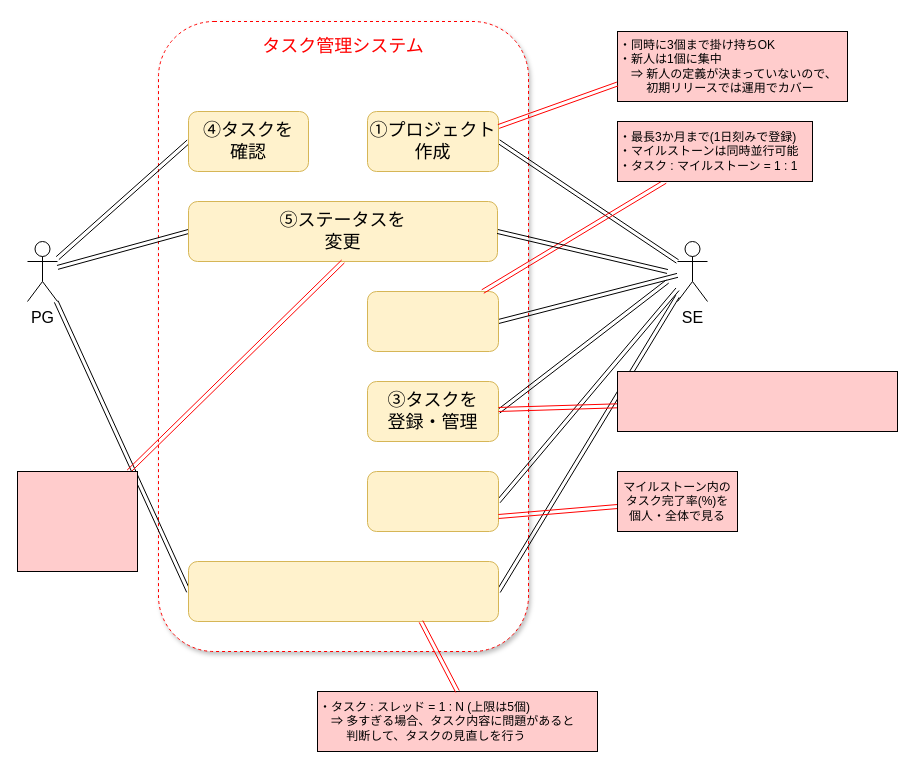
Some shapes in this 915 by 769 pixel diagram are drawn without their labels. Here are the shapes that lost their labels. From the top down, the centre of each, then its label:
At (x=432, y=321): "②マイルストーン 作成".
At (x=757, y=401): "・タスク：PG を 1 : 1 で割り当てる ・Googleドライブの設計書と紐づける ・PGに割り当てられたタスクは、Slackに通知する".
At (x=77, y=521): "未着手、 作業中、 レビュー中、 レビュー依頼中、 完了 （権限管理は割愛）".
At (x=432, y=501): "⑥進捗を管理".
At (x=343, y=591): "⑦タスクに紐づくスレッド上で 会話（質問・レビュー）".
